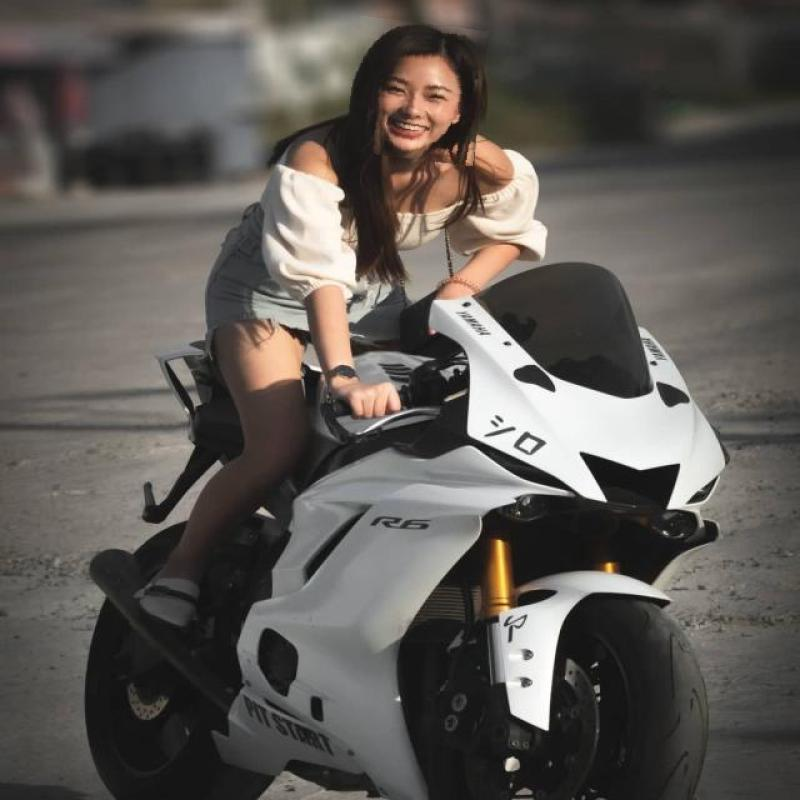nohelmet: (348, 20, 486, 162)
